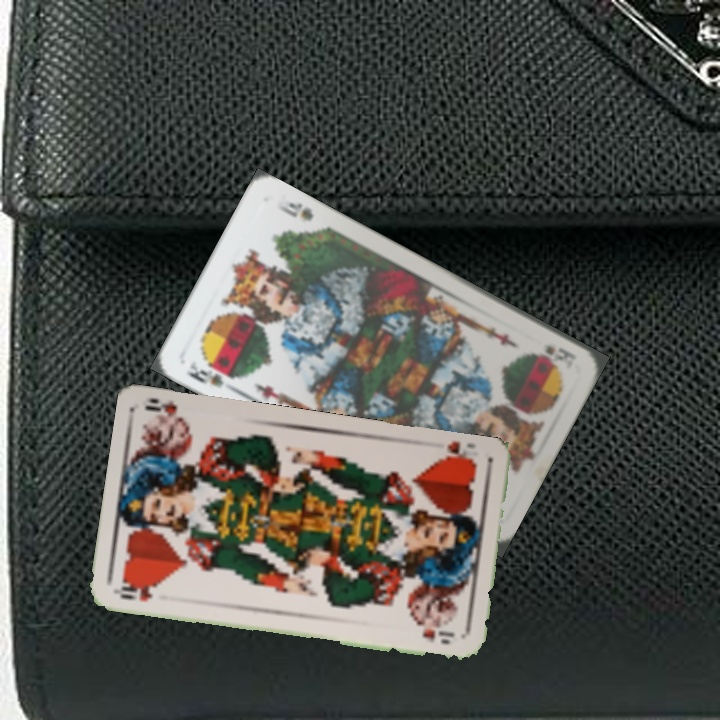HO: (434, 438, 479, 469), (113, 577, 159, 604)
SK: (181, 357, 237, 390), (527, 341, 579, 371)
